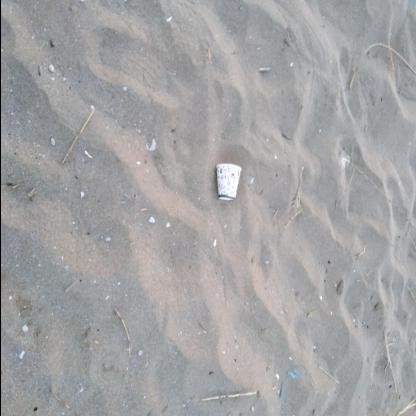karton: (215, 163, 241, 201)
